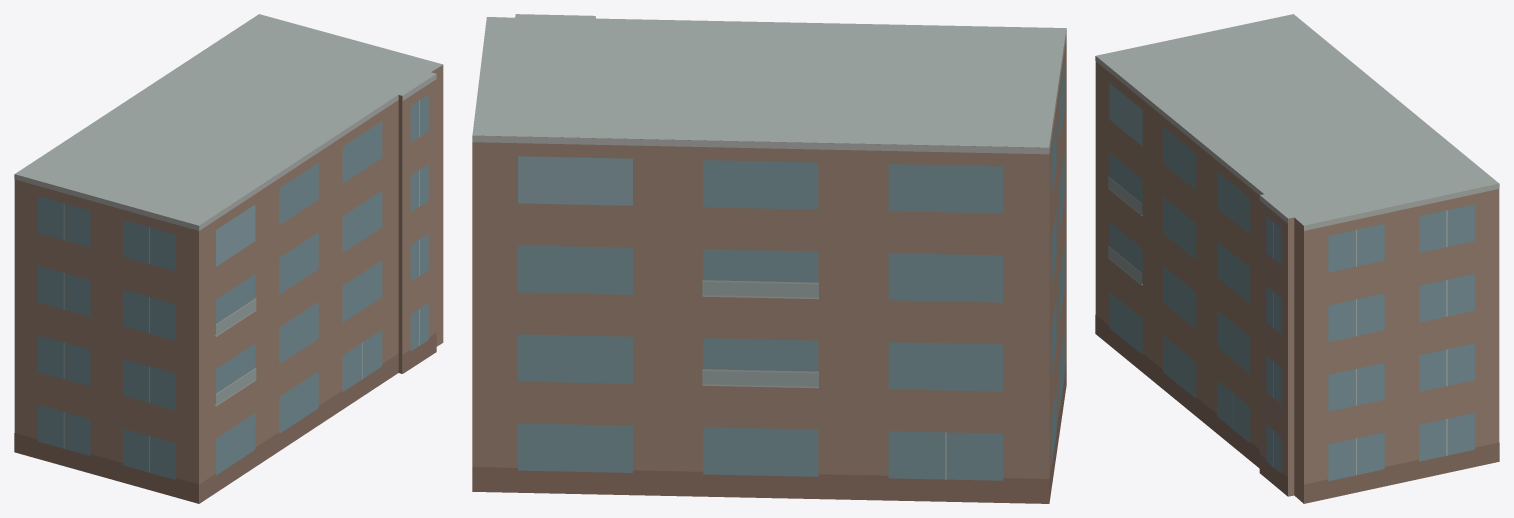
File: survey-upis-32658478.glb
3 views of the same model, side by side, from view 1: azimuth 30°, elevation 25°; view 2: azimuth 150°, elevation 25°; view 3: azimuth 270°, elevation 25° (orthographic). The views are drawn at different scales.
Visible parts, largest first — view 1: survey-upis-32658478.tmp; view 2: survey-upis-32658478.tmp; view 3: survey-upis-32658478.tmp.
Boxes of the visible parts, x1,y1,x2,y2 form: survey-upis-32658478.tmp: (14,14,443,503); survey-upis-32658478.tmp: (472,14,1066,503); survey-upis-32658478.tmp: (1095,14,1499,503).
Size of the model in its own units: 21.24 by 13 by 17.12.
